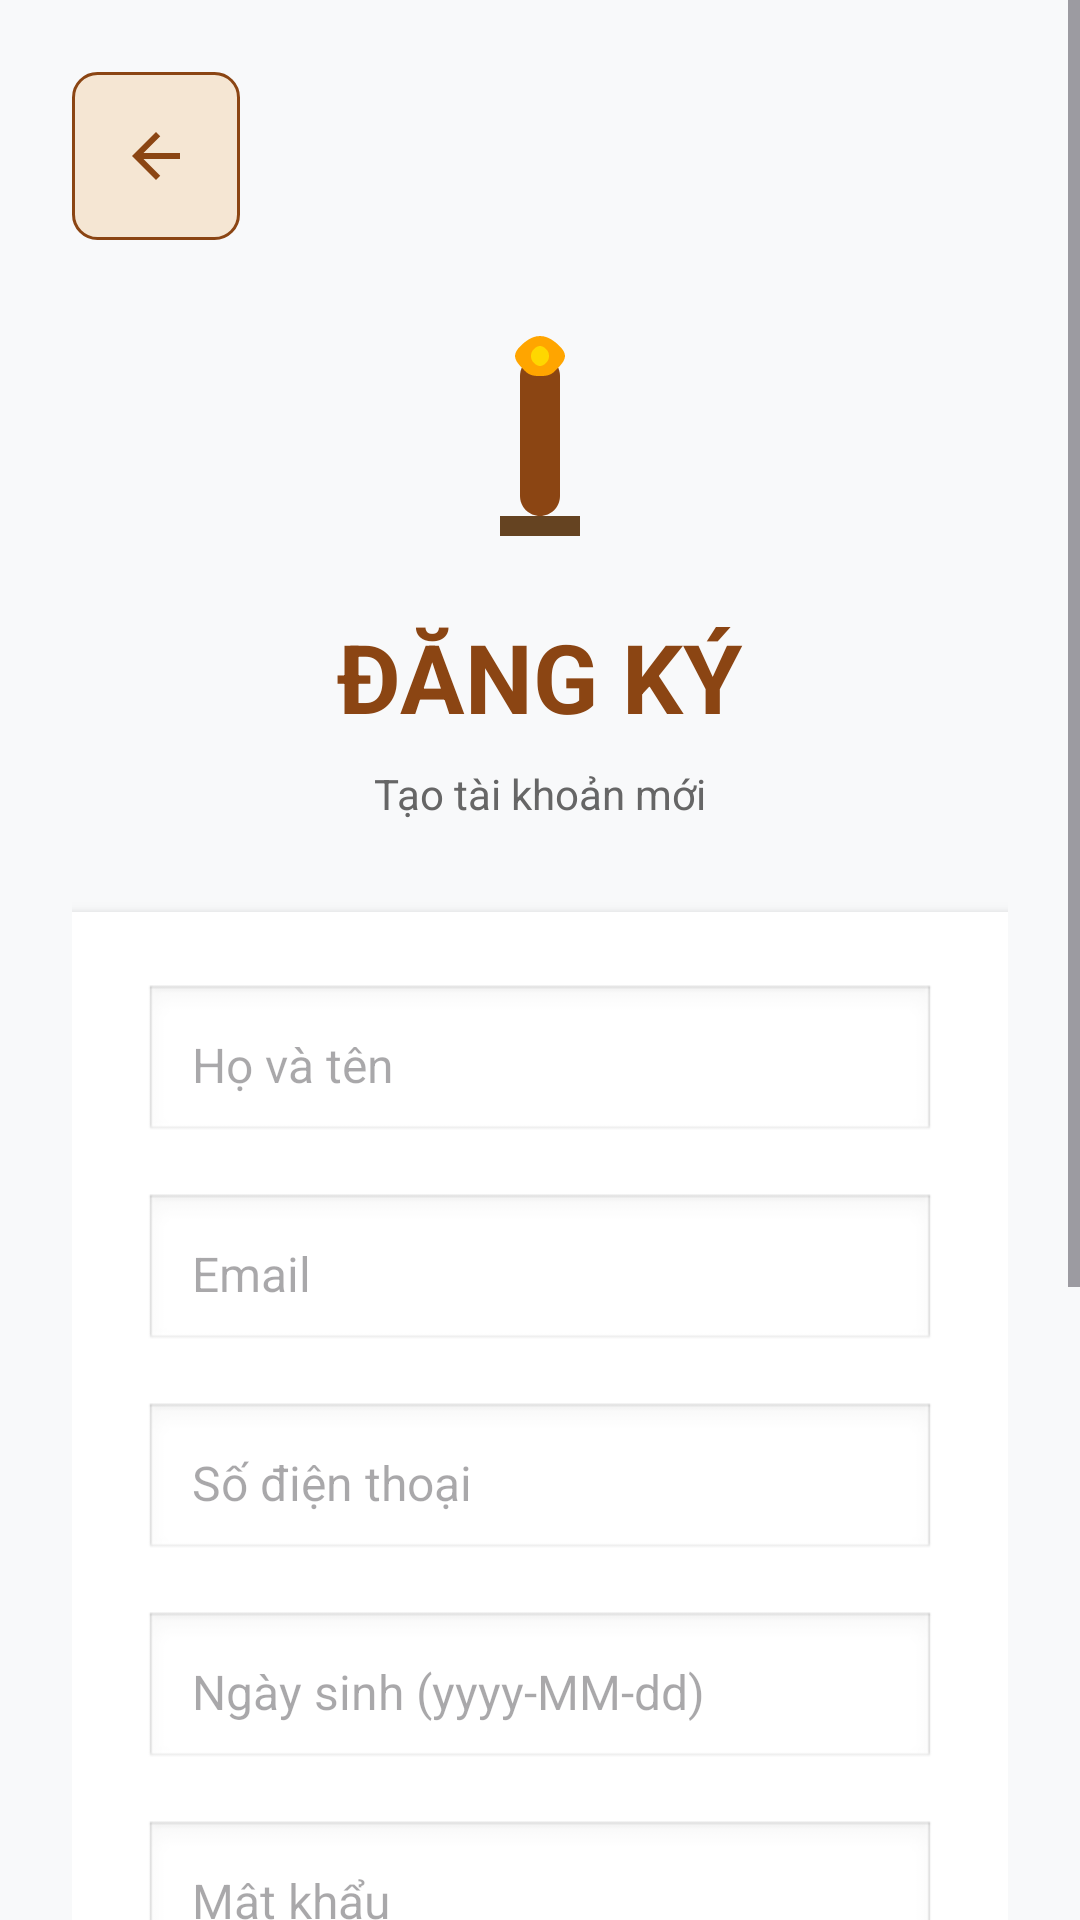

Icons on this 1080 x 1920 Android screen, each with the point to tap as point (x, y):
Quay lại: point (156, 156)
